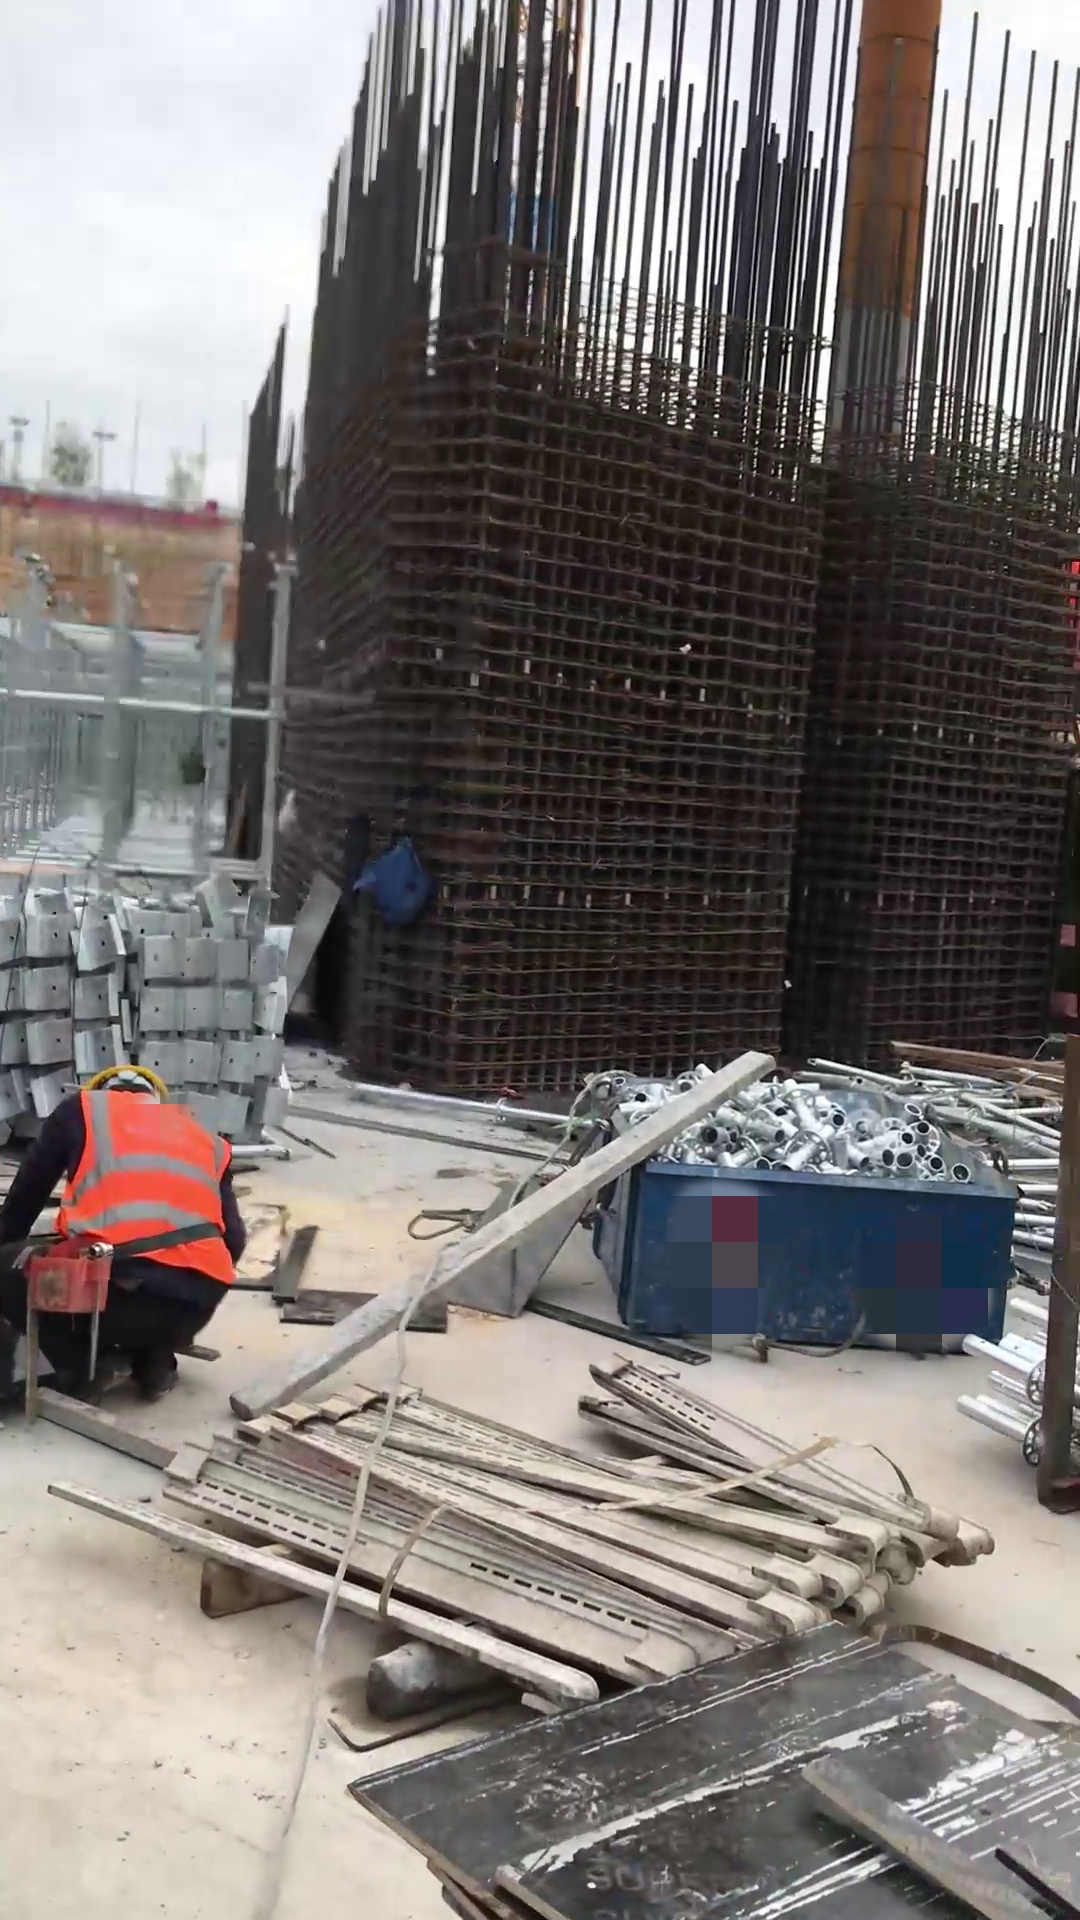board: (346, 1635, 1080, 1917)
helmet: (89, 1062, 173, 1099)
hopper: (584, 1064, 1013, 1352)
person: (1, 1062, 250, 1399)
vest: (55, 1086, 240, 1287)
